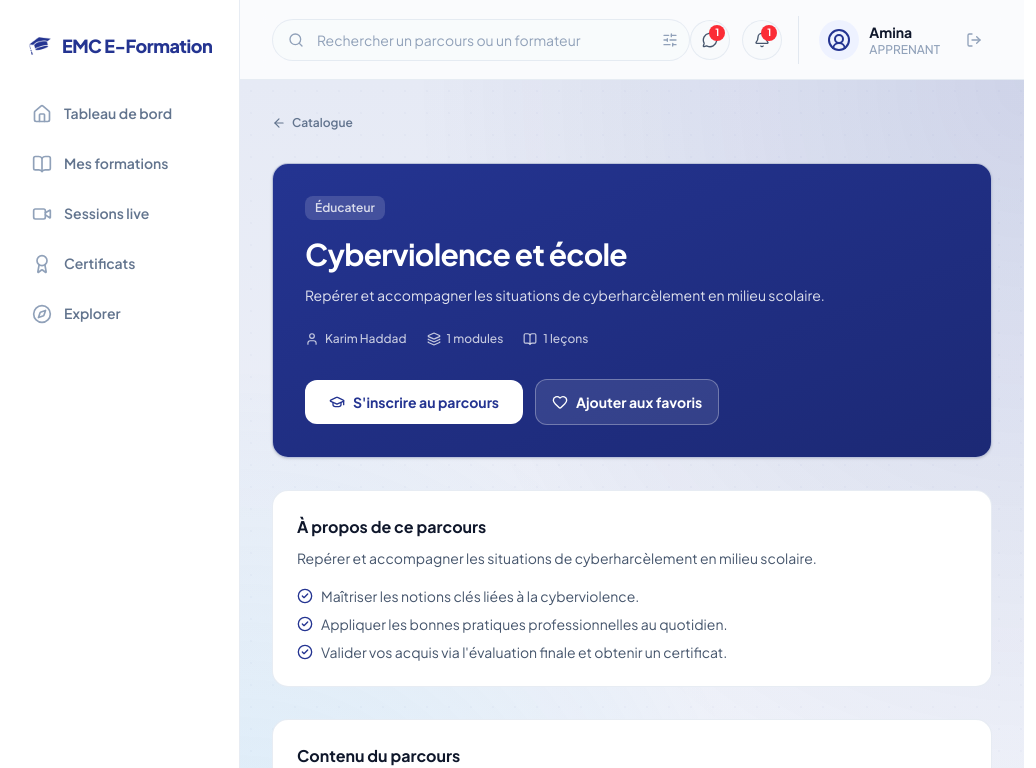
Test: Intégration — parcours apprenant › inscrit l’apprenant puis ouvre la première leçon
Expected: the heading "Cyberviolence et école" is shown, [305,235,627,273]
Click the button "S'inscrire au parcours" at (414, 402), box [305,380,523,424]
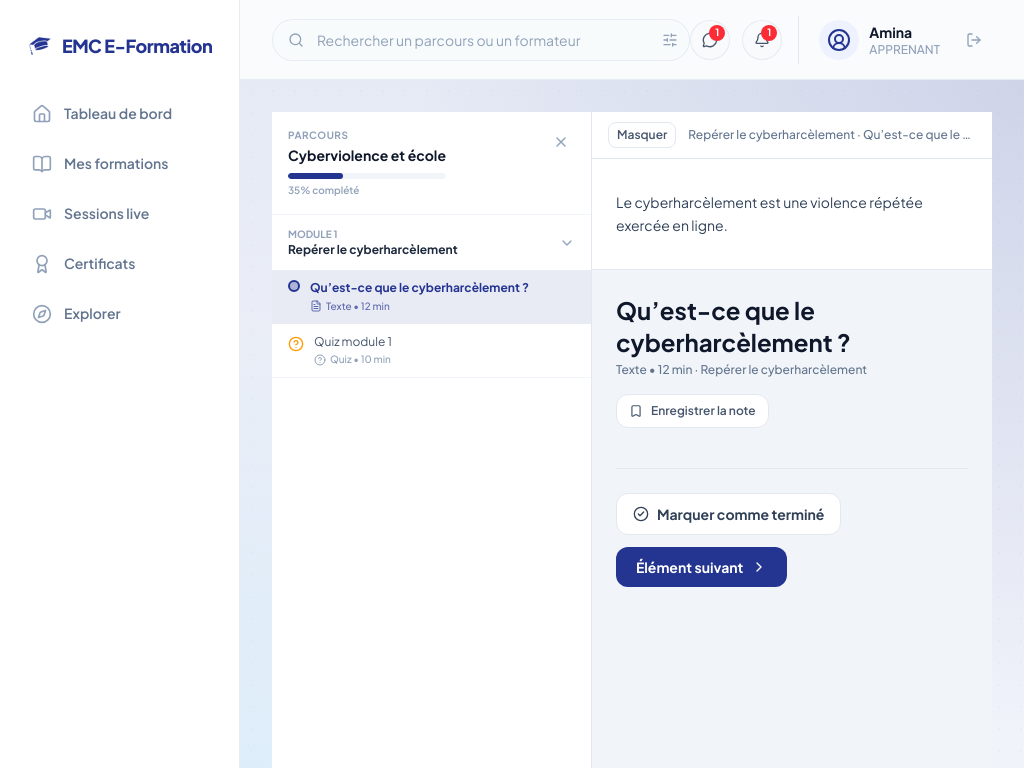
Expected: the text "Le cyberharcèlement est une violence répétée exercée en ligne." is shown, [616,191,968,236]
Expected: the button "Marquer comme terminé" is shown, [616,492,841,534]
